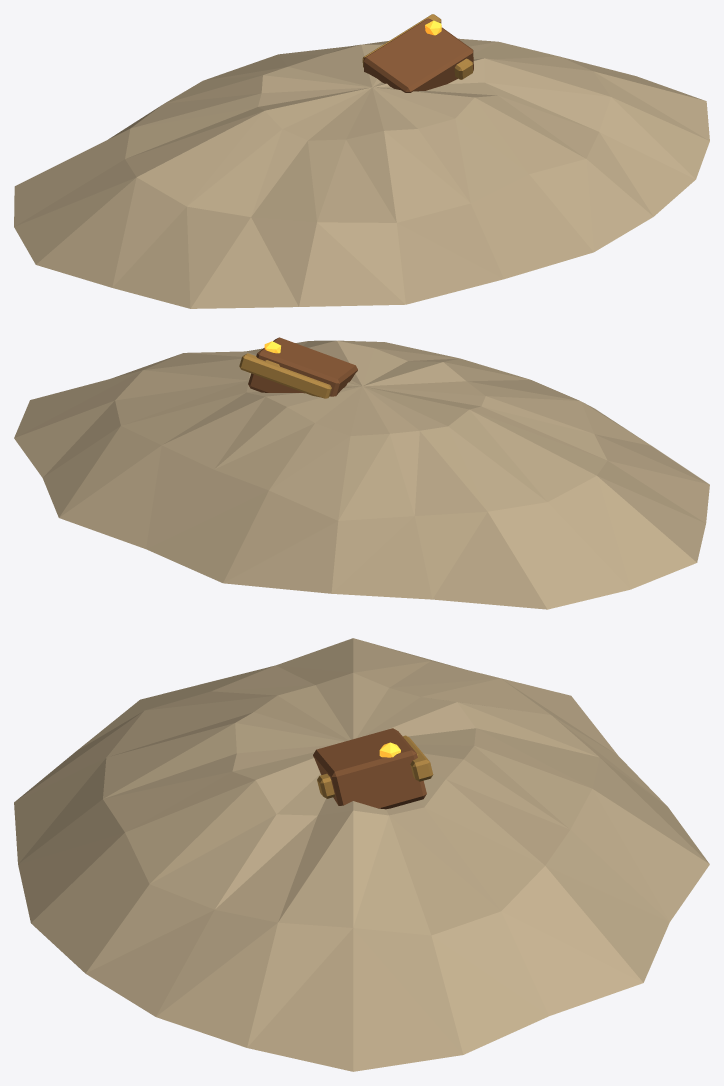
Rendered from buried.glb.
3 renders of one model, top to bottom at view 1: azimuth 30°, elevation 25°; view 2: azimuth 150°, elevation 25°; view 3: azimuth 270°, elevation 25°, orthographic. The views are drawn at different scales.
Parts seen in each view (by area): view 1: buried_mesh; view 2: buried_mesh; view 3: buried_mesh.
Part boxes in pixels (x1=…): buried_mesh: x1=14, y1=14, x2=709, y2=308; buried_mesh: x1=14, y1=337, x2=709, y2=609; buried_mesh: x1=14, y1=638, x2=709, y2=1071.
Size of the model in its own units: 2.65 by 0.502 by 1.87.
